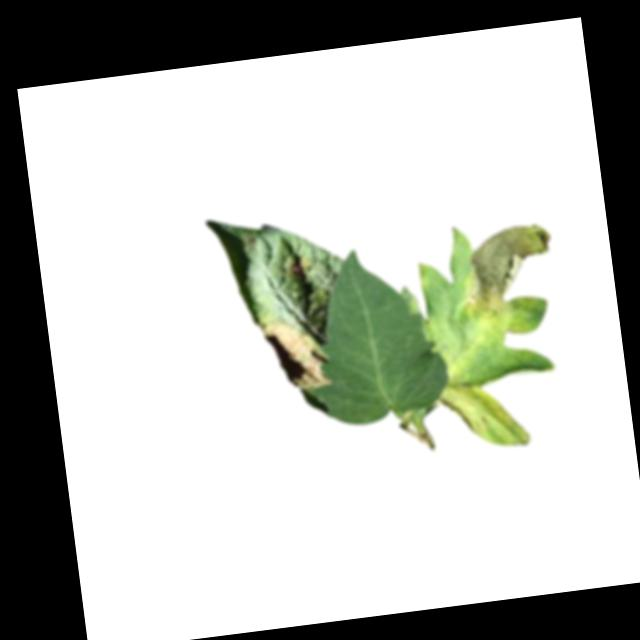Late_blight: (451, 219, 563, 342), (258, 310, 331, 395), (437, 375, 512, 444), (282, 252, 314, 276)
healthy: (298, 238, 452, 431)
